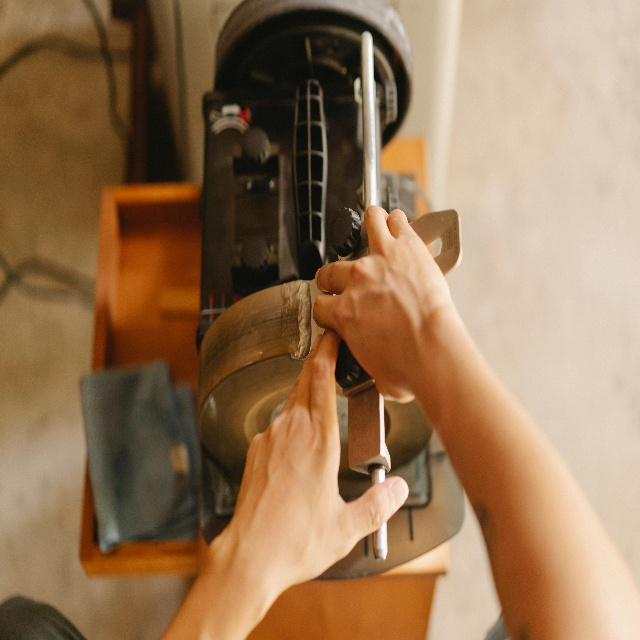Sin_guantes: (231, 328, 410, 594), (312, 205, 452, 405)
